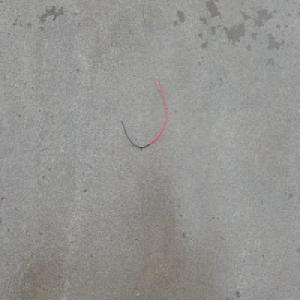Wire: (118, 73, 167, 149)
